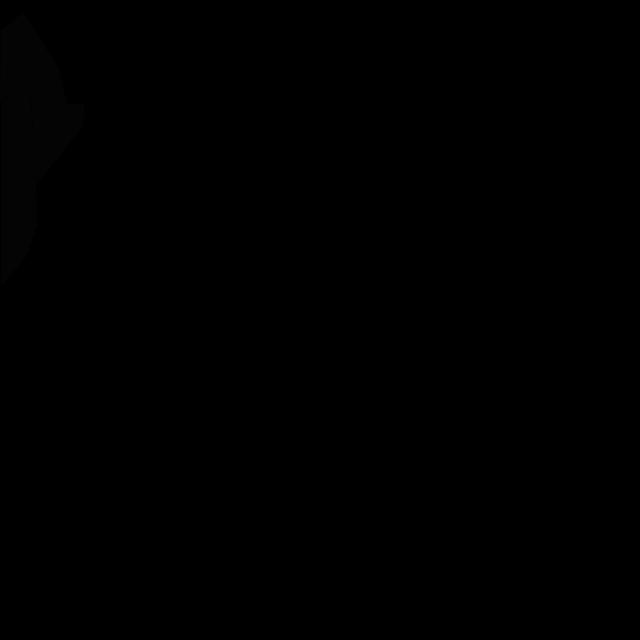soft_plastic: (0, 13, 85, 184), (1, 90, 37, 286)
